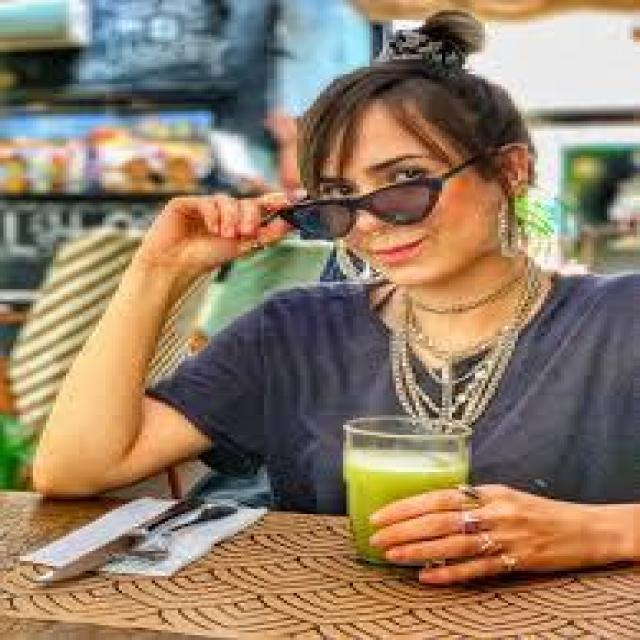person: (76, 15, 637, 588)
